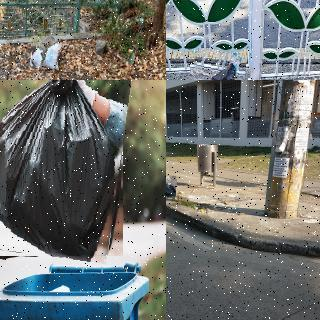Garbage: (0, 80, 131, 260), (187, 51, 244, 80), (42, 39, 61, 70), (30, 43, 47, 69), (166, 175, 177, 197)
